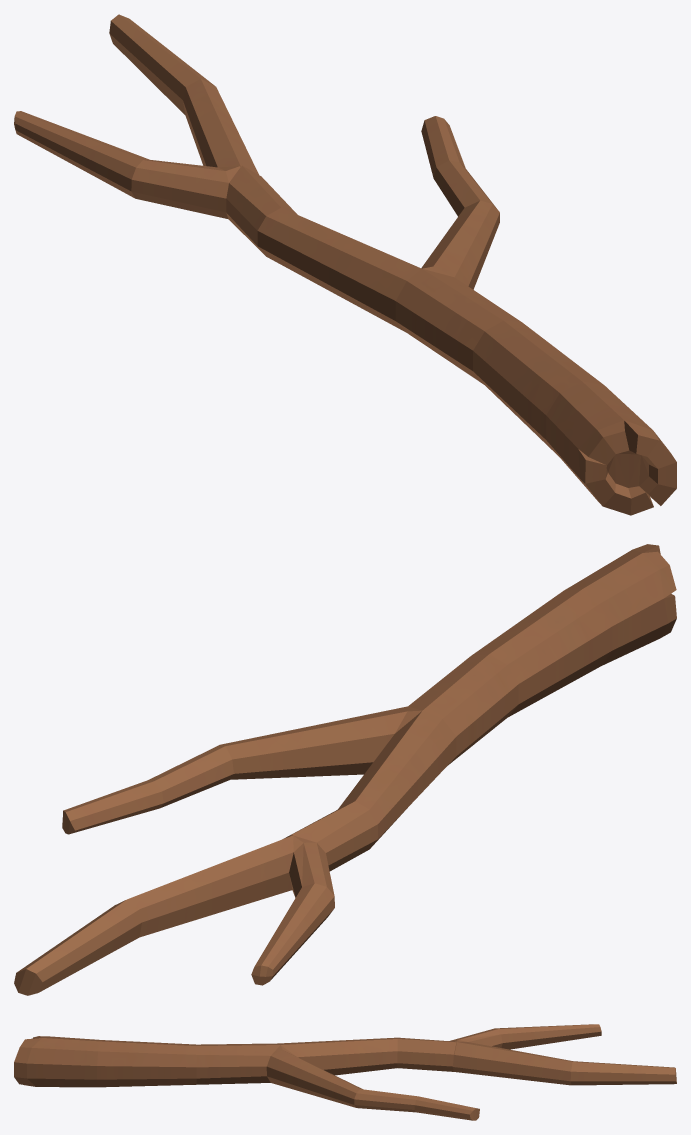
File: Tree_Branch_07.fbx
3 views of the same model, one above another, from view 1: azimuth 30°, elevation 25°; view 2: azimuth 150°, elevation 25°; view 3: azimuth 270°, elevation 25° (orthographic). The views are drawn at different scales.
Parts seen in each view (by area): view 1: Tree_Branch_07; view 2: Tree_Branch_07; view 3: Tree_Branch_07.
Part boxes in pixels (box(x1,y1,x2,y2)): Tree_Branch_07: box(14, 14, 676, 515); Tree_Branch_07: box(14, 544, 676, 995); Tree_Branch_07: box(14, 1024, 676, 1120).
Bounding box in the file's own units: 63.45 × 16.24 × 201.
